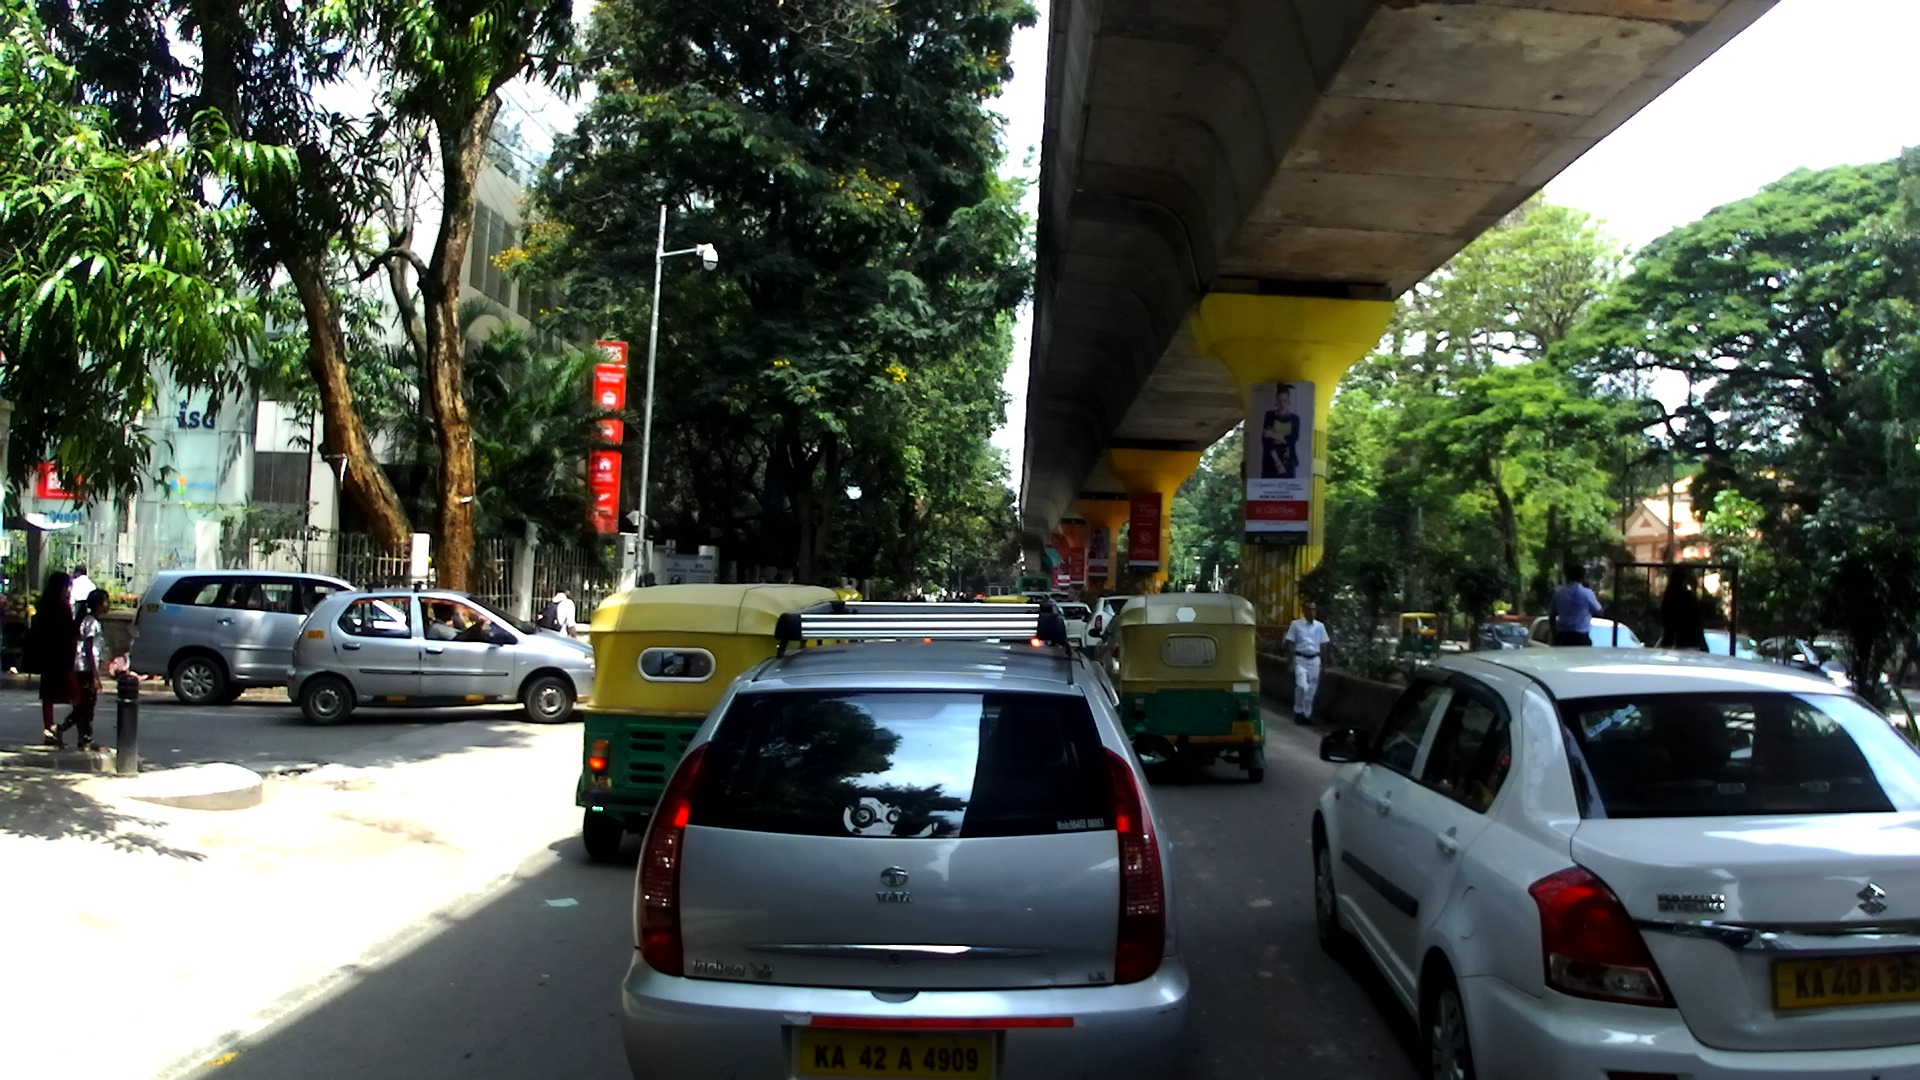autorickshaw: (576, 584, 840, 862), (1117, 594, 1268, 784), (1394, 613, 1441, 659), (824, 587, 863, 603), (982, 594, 1030, 603)
bus: (1014, 575, 1053, 596)
car: (620, 595, 1193, 1080), (1308, 645, 1920, 1080), (287, 590, 596, 726), (129, 569, 361, 707), (1762, 636, 1894, 717), (1653, 628, 1775, 665), (1525, 615, 1650, 649), (1081, 596, 1142, 662), (1089, 612, 1124, 703), (1054, 602, 1093, 650), (1470, 622, 1531, 651), (1021, 590, 1074, 606)
person: (44, 589, 114, 754), (21, 571, 80, 747), (1284, 600, 1330, 726), (1548, 563, 1603, 648), (1660, 562, 1711, 652), (535, 581, 578, 641), (66, 564, 97, 621)
